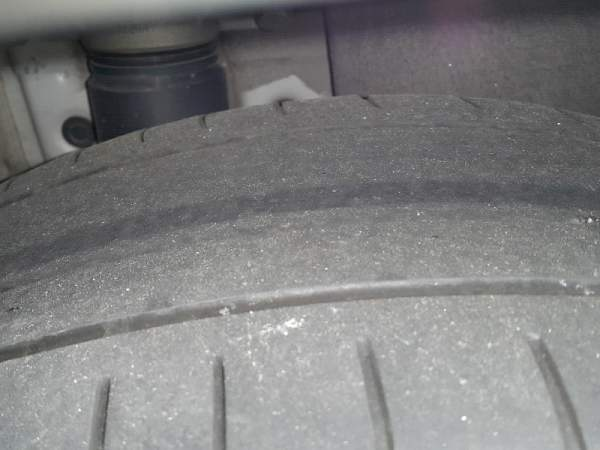bad_condition: (8, 97, 600, 443)
